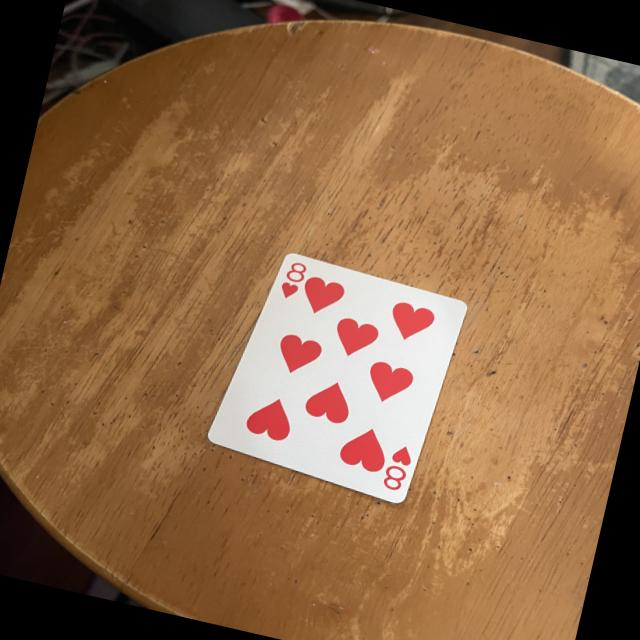8 of hearts: (203, 251, 469, 506)
